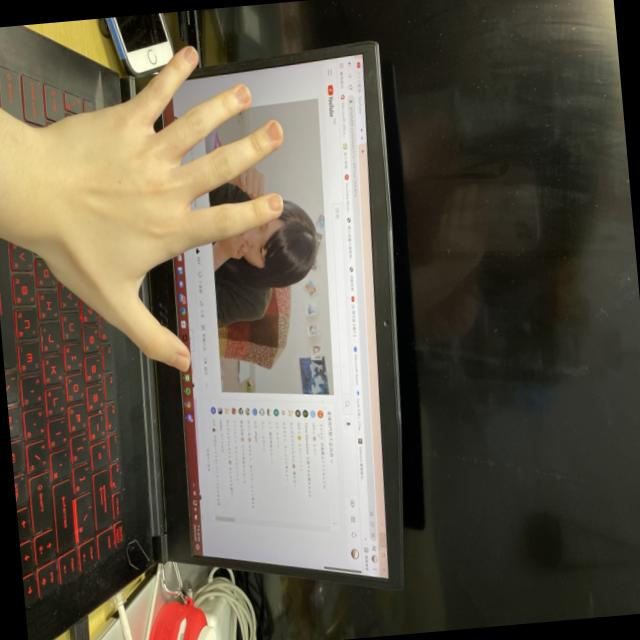Nail: (167, 355, 188, 371), (266, 122, 281, 141), (181, 45, 196, 64), (266, 194, 281, 210), (235, 85, 248, 103)
